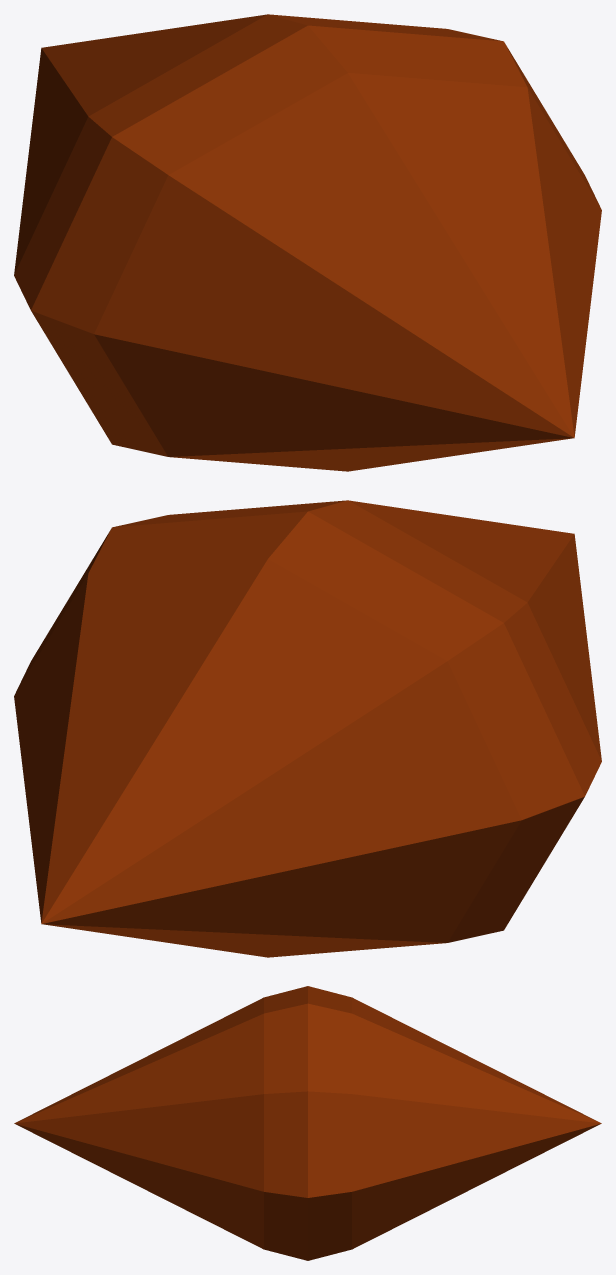
Rendered from relic_SigilHeart.fbx.
3 renders of one model, top to bottom at view 1: azimuth 30°, elevation 25°; view 2: azimuth 150°, elevation 25°; view 3: azimuth 270°, elevation 25°, orthographic. The views are drawn at different scales.
Visible parts, largest first — view 1: heart; view 2: heart; view 3: heart.
Part boxes in pixels (bbox=[...]): heart: bbox=[14, 14, 601, 471]; heart: bbox=[14, 500, 601, 957]; heart: bbox=[14, 986, 601, 1260].
Size of the model in its own units: 0.24 by 0.18 by 0.4.
